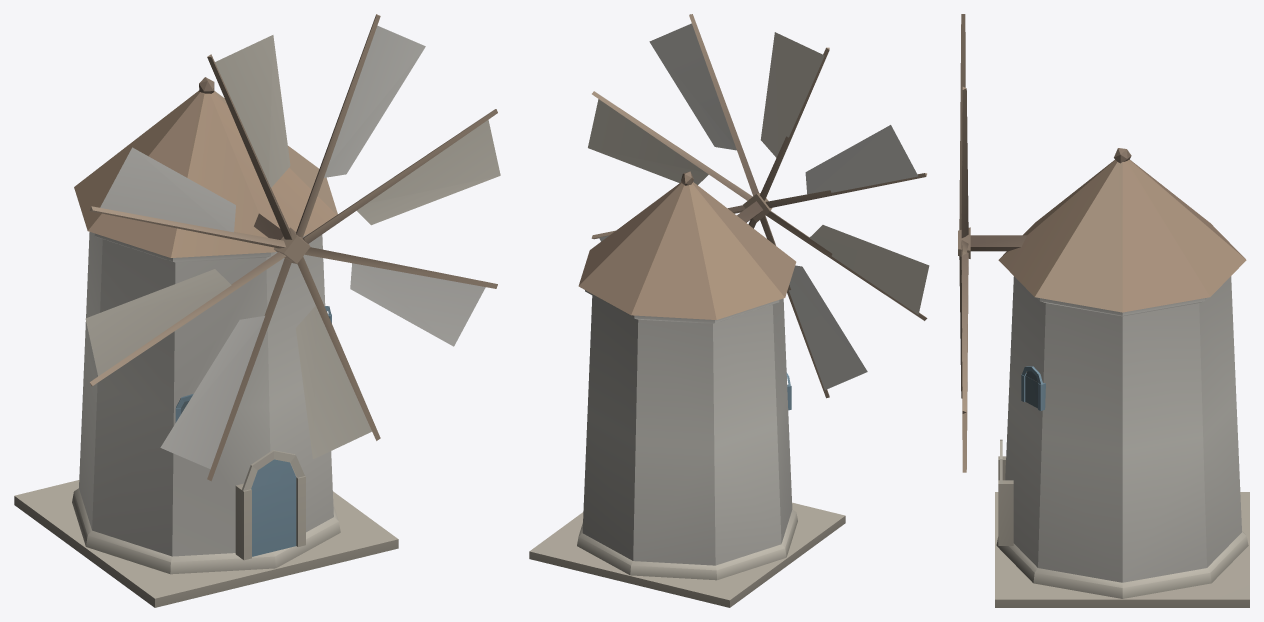
File: windmill.lod2.glb
3 renders of one model, left to right at view 1: azimuth 30°, elevation 25°; view 2: azimuth 150°, elevation 25°; view 3: azimuth 270°, elevation 25°, orthographic. The views are drawn at different scales.
Size of the model in its own units: 9.37 by 12.09 by 6.3.
